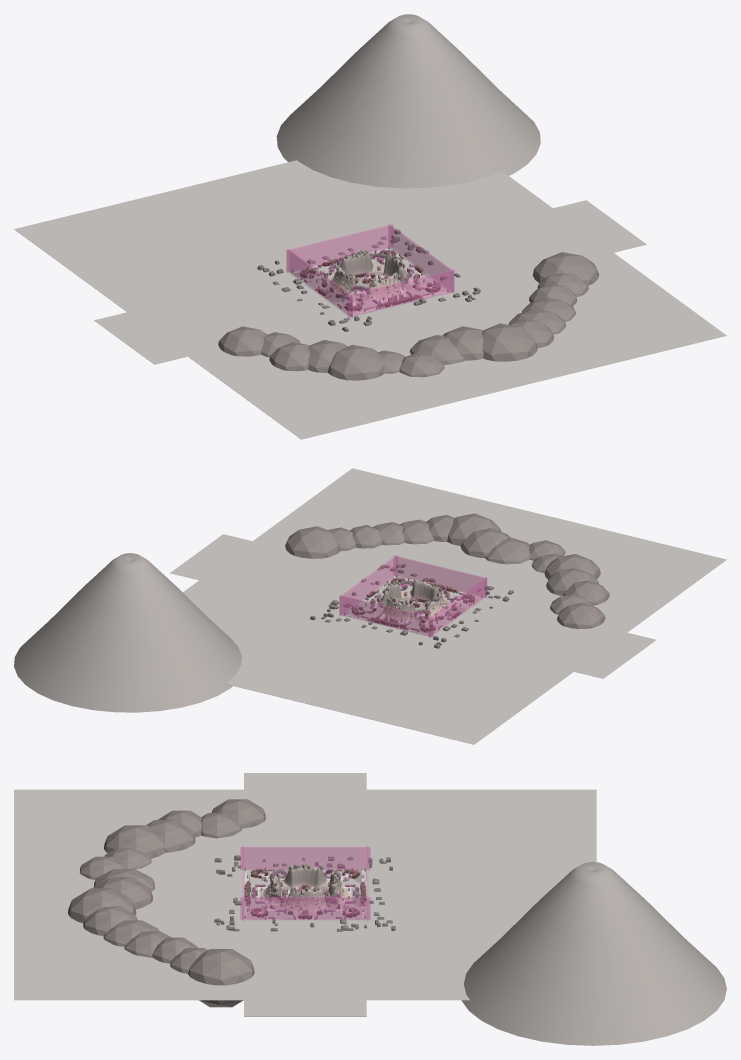
Rendered from Fogo_Static.fbx.
3 views of the same model, one above another, from view 1: azimuth 30°, elevation 25°; view 2: azimuth 150°, elevation 25°; view 3: azimuth 270°, elevation 25° (orthographic). The views are drawn at different scales.
Parts seen in each view (by area): view 1: BG_Planicie, BG_Pico, BG_Bordeira, TER_Relevo, COL_Box_Limite_S, COL_Box_Limite_N, COL_Box_Limite_W, COL_Box_Limite_E, BG_Lava_Antiga; view 2: BG_Planicie, BG_Pico, BG_Bordeira, TER_Relevo, COL_Box_Limite_N, COL_Box_Limite_S, COL_Box_Limite_W, COL_Box_Limite_E, BG_Lava_Antiga; view 3: BG_Planicie, BG_Pico, BG_Bordeira, TER_Relevo, COL_Box_Limite_E, COL_Box_Limite_W, BG_Lava_Antiga, VOL_Fragas.
Part boxes in pixels (box(x1,y1,x2,y2)): BG_Planicie: box(14, 160, 726, 439); BG_Pico: box(276, 14, 540, 188); BG_Bordeira: box(218, 252, 599, 380); TER_Relevo: box(291, 248, 449, 315); COL_Box_Limite_S: box(348, 269, 454, 317); COL_Box_Limite_N: box(286, 224, 392, 272); COL_Box_Limite_W: box(287, 249, 352, 317); COL_Box_Limite_E: box(388, 224, 453, 293); BG_Lava_Antiga: box(257, 229, 480, 331); BG_Planicie: box(170, 468, 726, 744); BG_Pico: box(14, 553, 241, 712); BG_Bordeira: box(285, 513, 609, 628); TER_Relevo: box(343, 576, 482, 635); COL_Box_Limite_N: box(339, 595, 432, 637); COL_Box_Limite_S: box(393, 555, 486, 597); COL_Box_Limite_W: box(429, 577, 486, 637); COL_Box_Limite_E: box(340, 555, 397, 615); BG_Lava_Antiga: box(310, 564, 513, 648); BG_Planicie: box(14, 773, 596, 1016); BG_Pico: box(461, 862, 726, 1045); BG_Bordeira: box(68, 799, 265, 1007); TER_Relevo: box(244, 866, 366, 919); COL_Box_Limite_E: box(240, 897, 370, 919); COL_Box_Limite_W: box(240, 847, 370, 869); BG_Lava_Antiga: box(214, 855, 395, 931); VOL_Fragas: box(264, 863, 344, 910).
Size of the model in its own units: 330 by 86.8 by 372.
